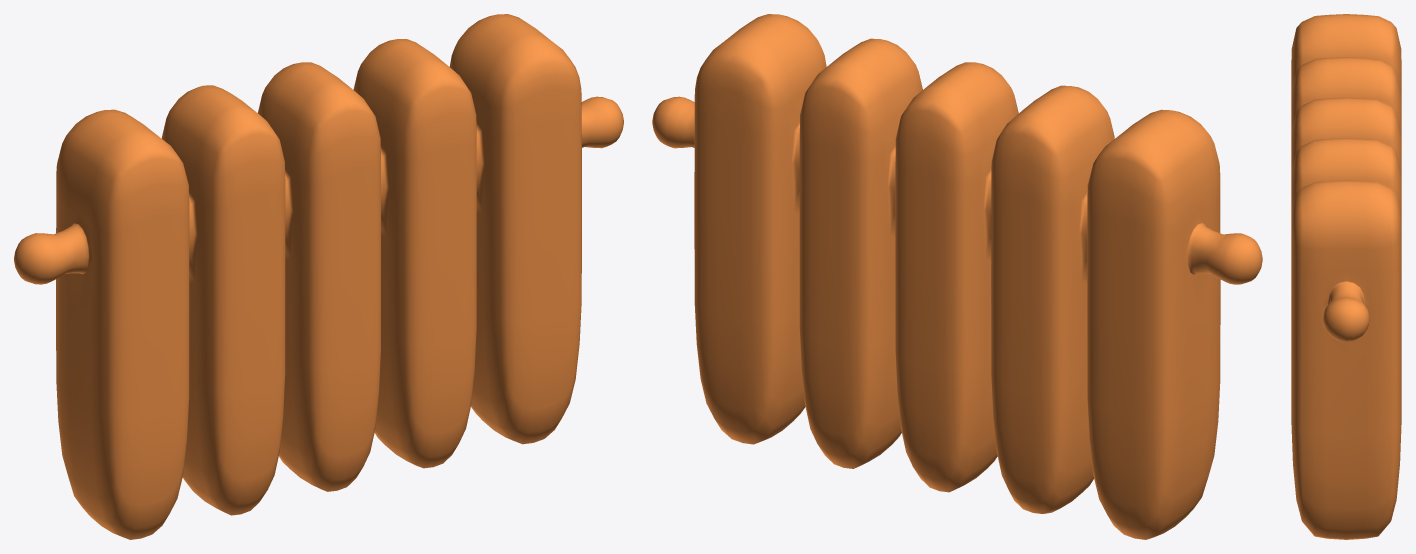
The model's file is Heating_battery.glb.
3 renders of one model, left to right at view 1: azimuth 30°, elevation 25°; view 2: azimuth 150°, elevation 25°; view 3: azimuth 270°, elevation 25°, orthographic. The views are drawn at different scales.
Parts seen in each view (by area): view 1: Heating_battery; view 2: Heating_battery; view 3: Heating_battery.
Part boxes in pixels (x1,y1,x2,y2): Heating_battery: (14,14,623,539); Heating_battery: (652,14,1262,539); Heating_battery: (1291,14,1401,539).
Size of the model in its own units: 1.66 by 1.07 by 0.3018.
1 material, 1 textured.
